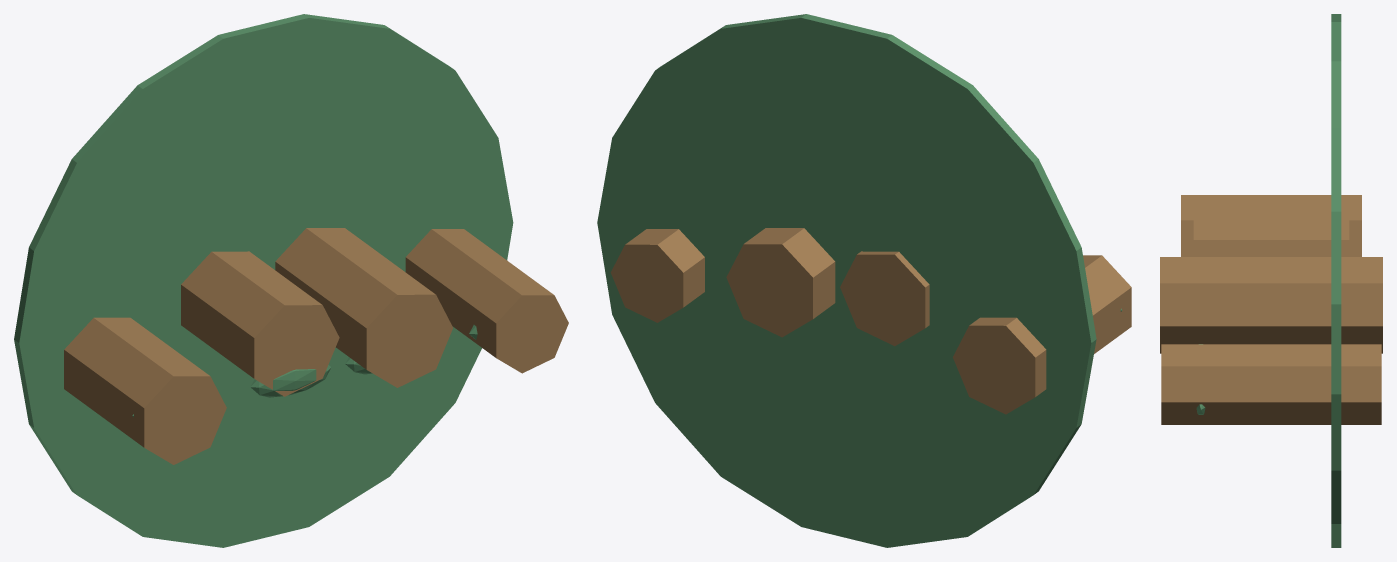
Rendered from 03_ambient_object_cluster.glb.
The picture shows the model from 3 angles, left to right: view 1: azimuth 30°, elevation 25°; view 2: azimuth 150°, elevation 25°; view 3: azimuth 270°, elevation 25°; orthographic projection. The views are drawn at different scales.
Parts seen in each view (by area): view 1: scatter_base, root_stump_2, root_stump_0, root_stump_1, root_stump_3, moss_1; view 2: scatter_base, root_stump_0, root_stump_2, root_stump_3, root_stump_1; view 3: root_stump_2, root_stump_3, root_stump_1, scatter_base, root_stump_0.
Boxes of the visible parts, <box> form: scatter_base: <box>14,14,513,547</box>; root_stump_2: <box>275,228,452,387</box>; root_stump_0: <box>64,317,226,464</box>; root_stump_1: <box>181,251,339,396</box>; root_stump_3: <box>405,229,568,373</box>; moss_1: <box>250,365,331,397</box>; scatter_base: <box>597,14,1096,547</box>; root_stump_0: <box>953,255,1131,414</box>; root_stump_2: <box>726,228,835,337</box>; root_stump_3: <box>610,229,704,322</box>; root_stump_1: <box>840,251,929,346</box>; root_stump_2: <box>1160,257,1382,353</box>; root_stump_3: <box>1161,344,1381,424</box>; root_stump_1: <box>1193,214,1349,256</box>; scatter_base: <box>1331,14,1341,547</box>; root_stump_0: <box>1181,195,1361,256</box>.
Bounding box in the file's own units: 1.9 × 1.87 × 0.7904.
